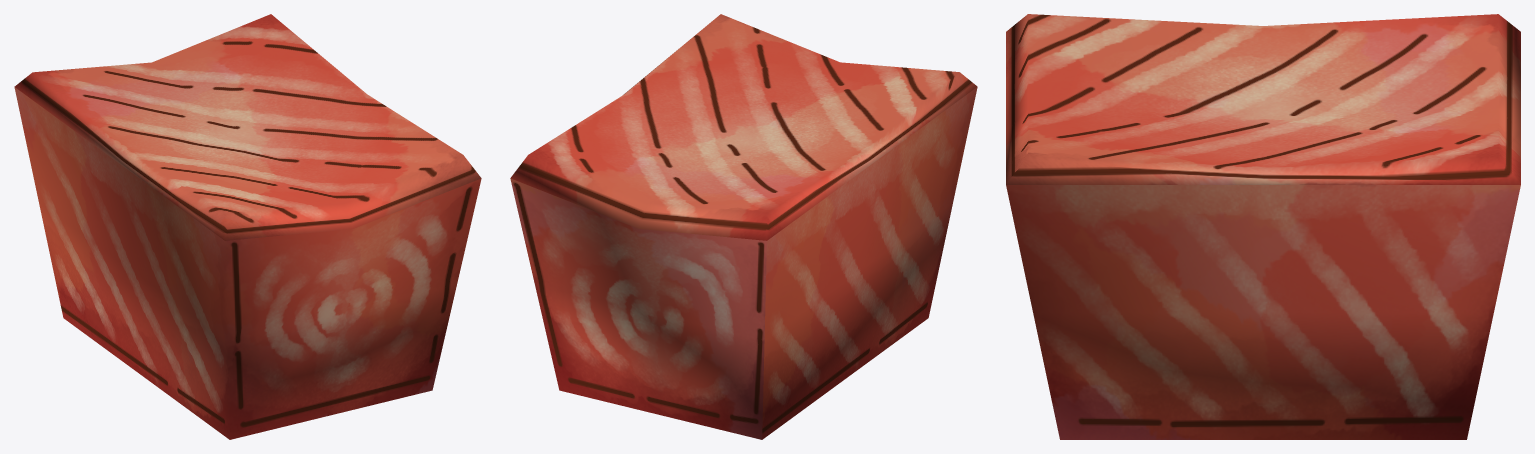
File: tuna no skin.fbx
3 renders of one model, left to right at view 1: azimuth 30°, elevation 25°; view 2: azimuth 150°, elevation 25°; view 3: azimuth 270°, elevation 25°, orthographic. The views are drawn at different scales.
Parts seen in each view (by area): view 1: tunanoskin; view 2: tunanoskin; view 3: tunanoskin.
Part boxes in pixels (x1=…): tunanoskin: x1=14, y1=14, x2=481, y2=439; tunanoskin: x1=510, y1=14, x2=977, y2=439; tunanoskin: x1=1006, y1=14, x2=1520, y2=439.
Bounding box in the file's own units: 29.82 × 26.73 × 42.4.
